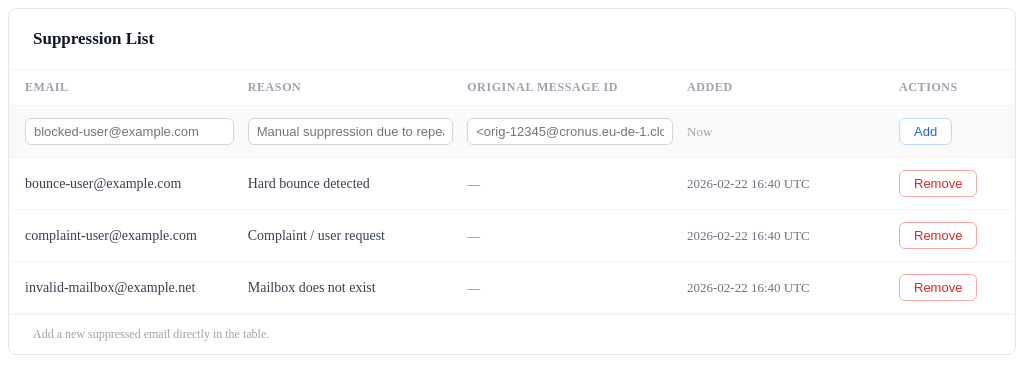
it: SuppressionList › removes a row when Remove is clicked
This screenshot has width=1024, height=372.
Expected: the text "bounce-user@example.com" is shown, [9,158,232,210]
Click the button "Remove" in the row of "bounce-user@example.com".
click(938, 184)  # box [899,170,977,197]
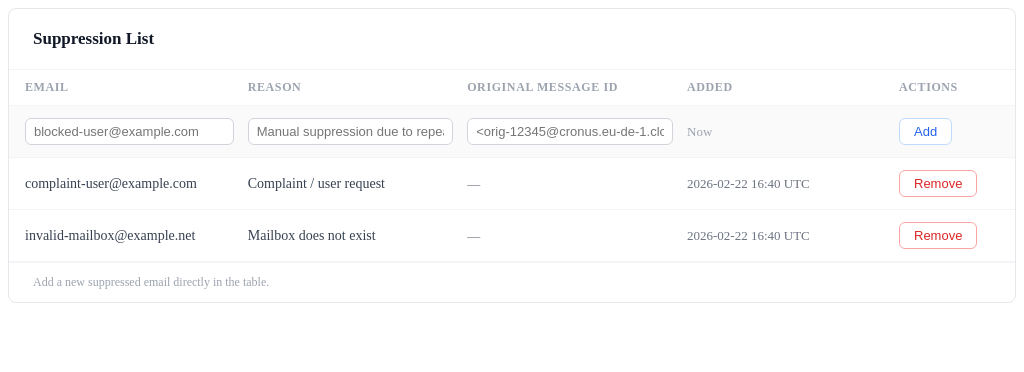
Result: the text "bounce-user@example.com" is gone
